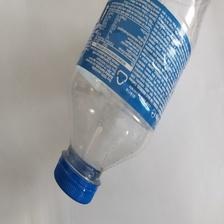BIODEGRADABLE: (50, 1, 207, 201)
